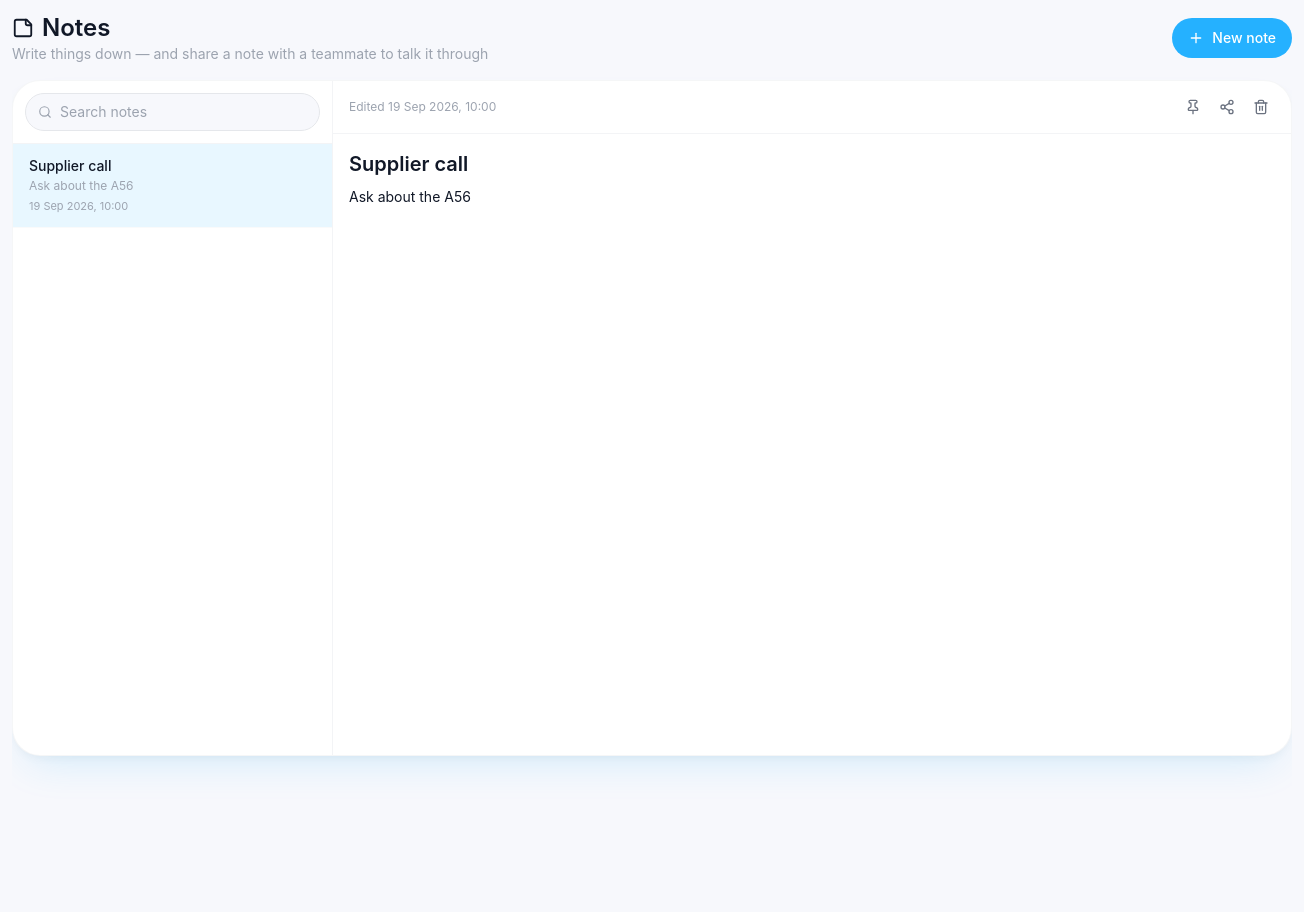
Test: NotesPage › writing › autosaves what you type, based on the version it opened
In the text box named "Note body": (812, 462) [349,186,1275,739], type " price"
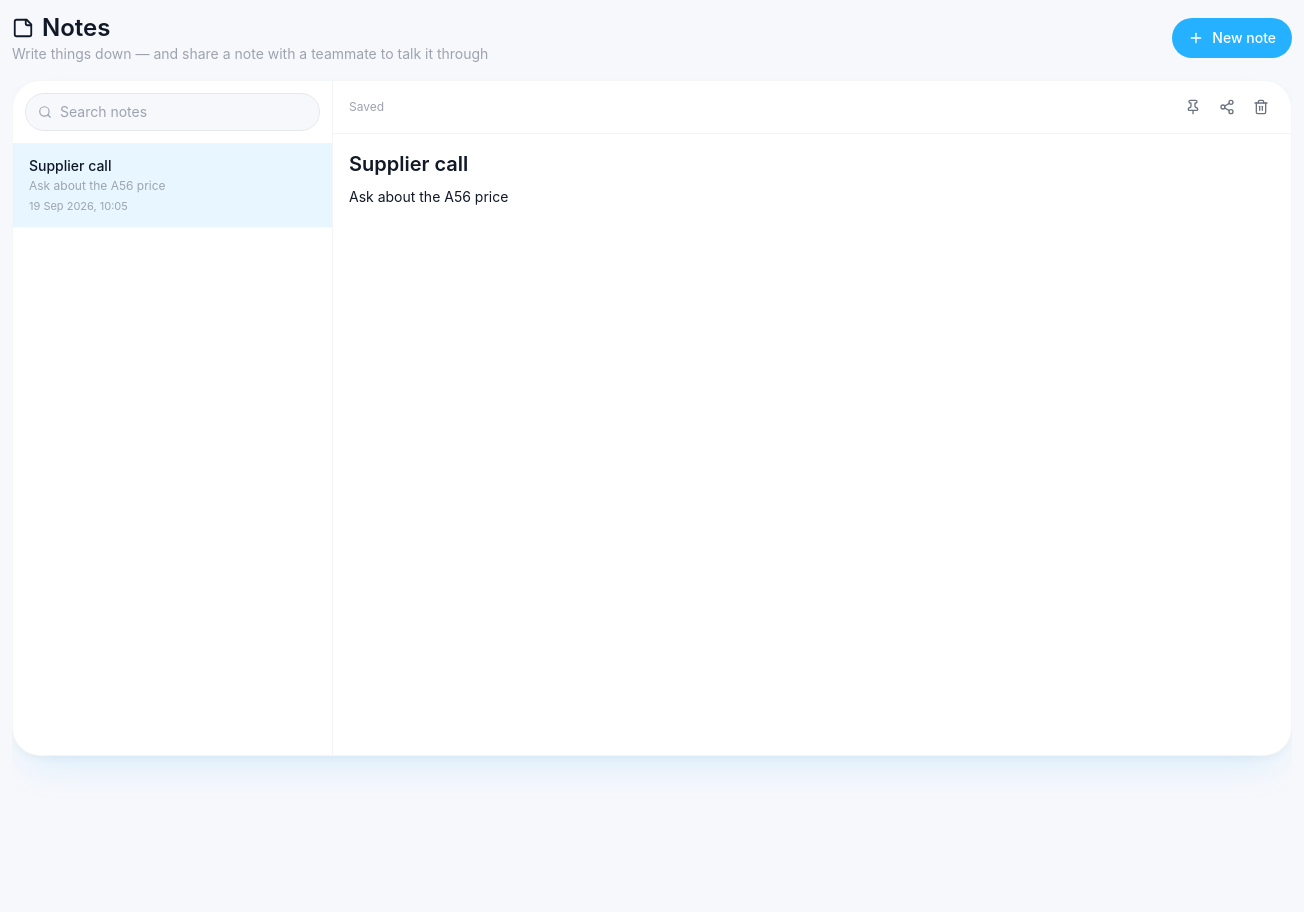
Expected: the text "Saved" is shown, [349,99,384,114]
